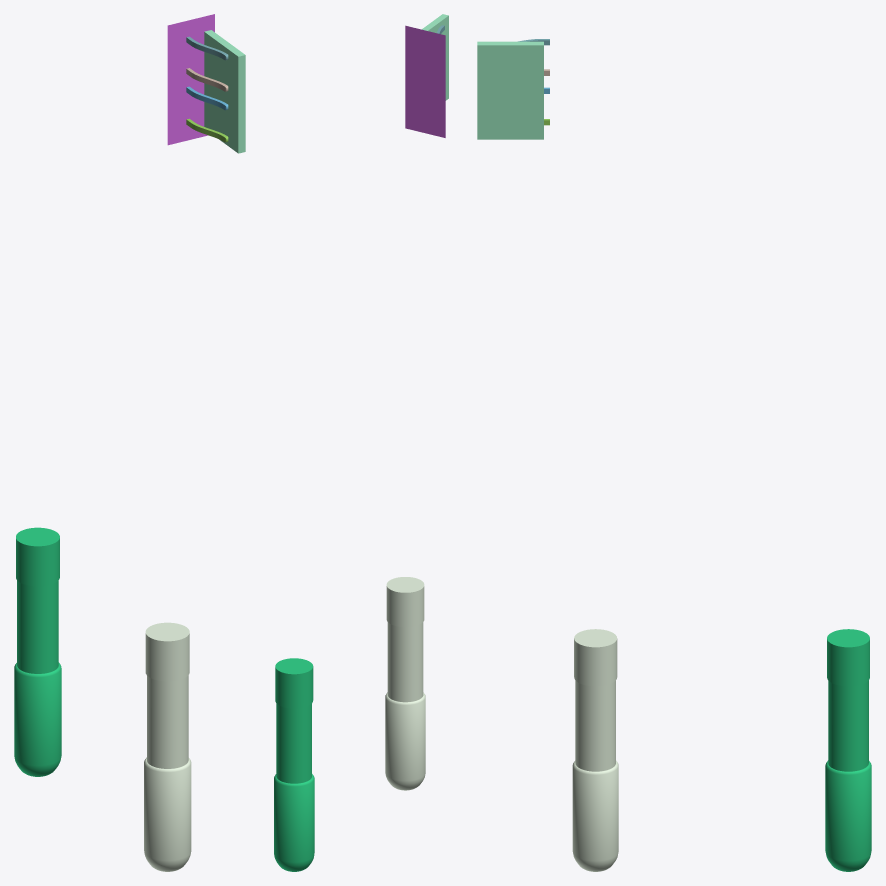
3 renders of one model, left to right at view 1: azimuth 30°, elevation 25°; view 2: azimuth 150°, elevation 25°; view 3: azimuth 270°, elevation 25°, orthographic. The views are drawn at different scales.
Parts seen in each view (by area): view 1: defaultMaterial.008, defaultMaterial, defaultMaterial.001, defaultMaterial.013; view 2: defaultMaterial.008, defaultMaterial, defaultMaterial.001, defaultMaterial.013; view 3: defaultMaterial.008, defaultMaterial, defaultMaterial.013.
Boxes of the visible parts, bbox=[...] form: defaultMaterial.008: bbox=[144, 622, 191, 871]; defaultMaterial: bbox=[14, 527, 61, 776]; defaultMaterial.001: bbox=[167, 14, 214, 145]; defaultMaterial.013: bbox=[204, 30, 245, 153]; defaultMaterial.008: bbox=[385, 577, 425, 790]; defaultMaterial: bbox=[274, 658, 314, 871]; defaultMaterial.001: bbox=[405, 25, 445, 137]; defaultMaterial.013: bbox=[422, 14, 448, 100]; defaultMaterial.008: bbox=[572, 629, 618, 871]; defaultMaterial: bbox=[825, 629, 871, 871]; defaultMaterial.013: bbox=[477, 41, 543, 139].
Size of the model in its own units: 0.0572 by 1 by 0.4239.
